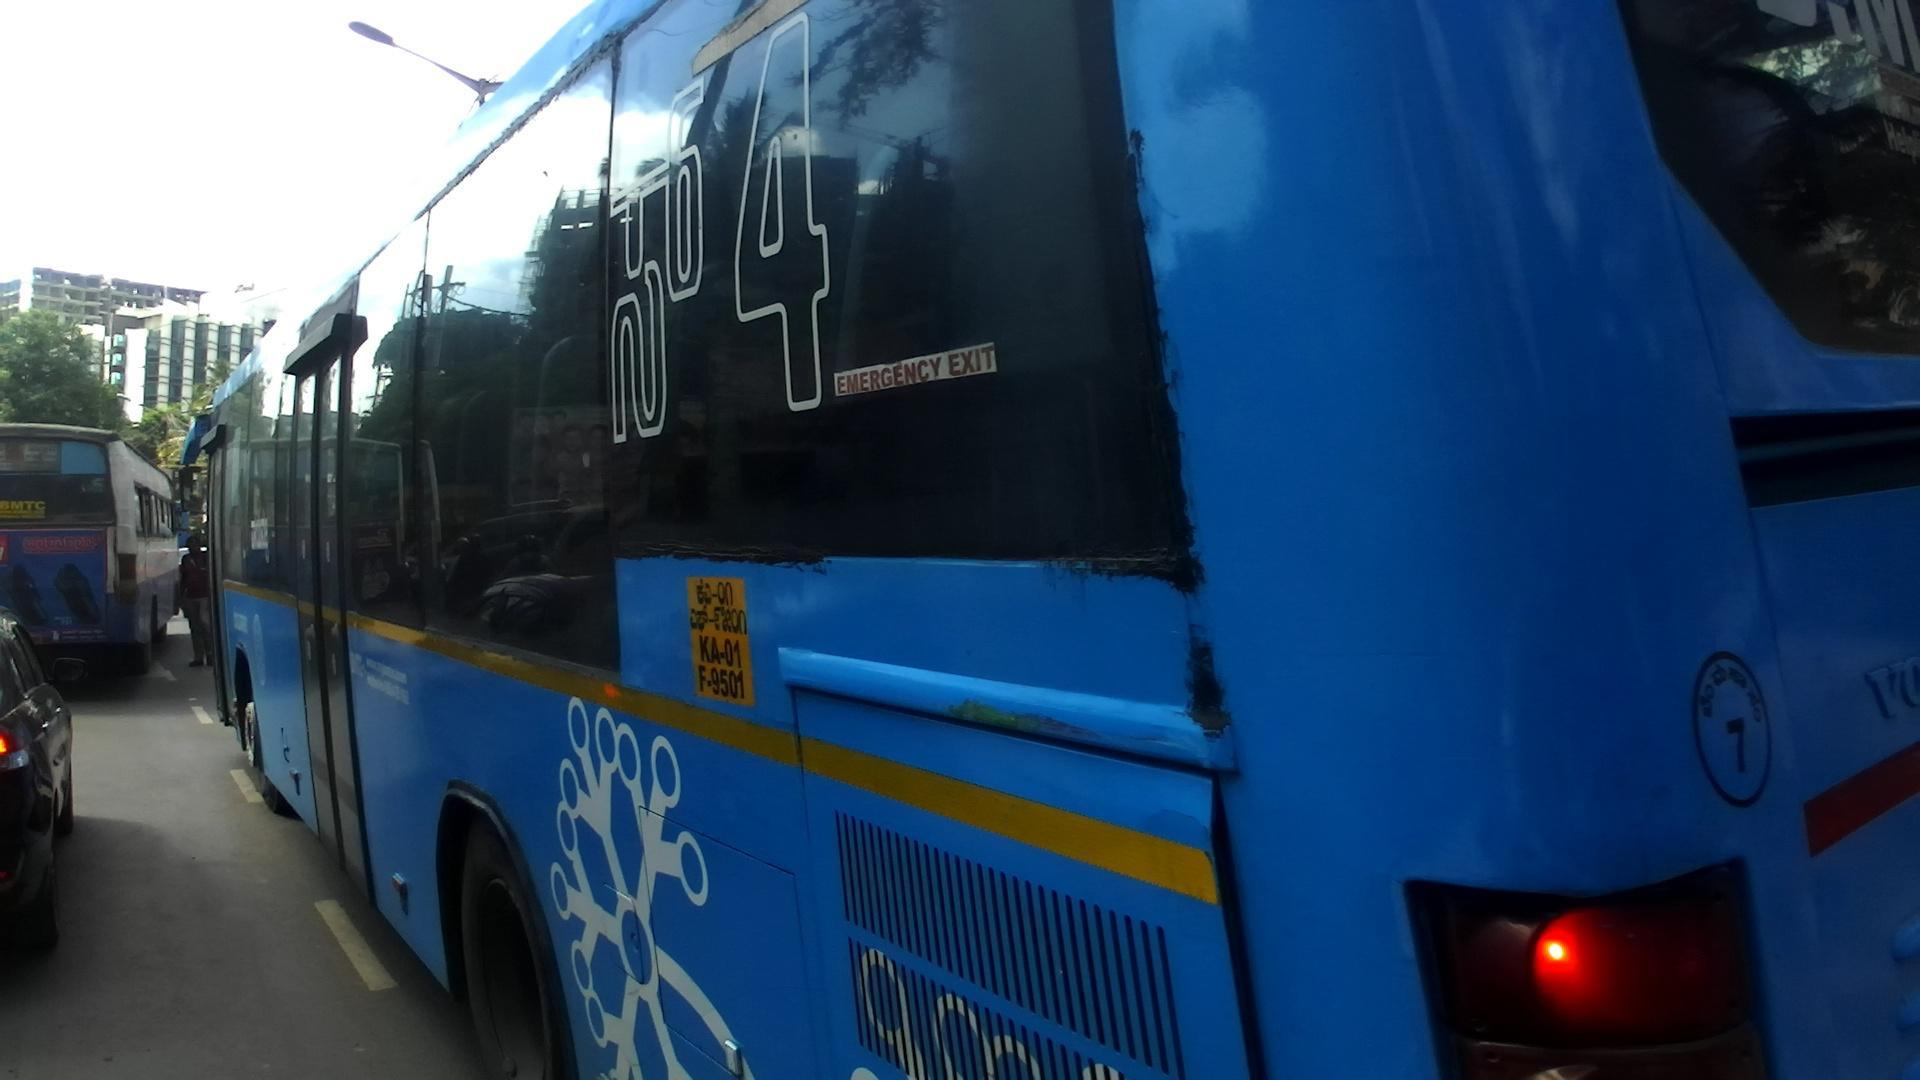off: (100, 12, 1920, 1080)
